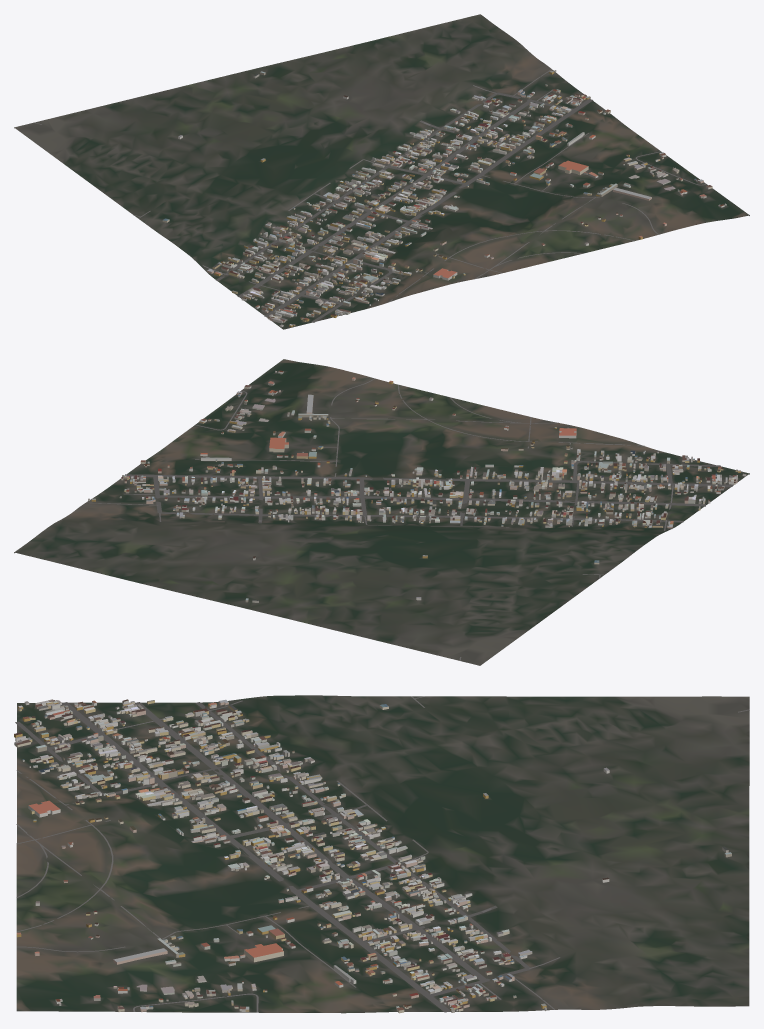
The picture shows the model from 3 angles, top to bottom: view 1: azimuth 30°, elevation 25°; view 2: azimuth 150°, elevation 25°; view 3: azimuth 270°, elevation 25°; orthographic projection. The views are drawn at different scales.
Visible parts, largest first — view 1: ground, buildings, roads; view 2: ground, buildings, roads; view 3: ground, buildings, roads.
Part boxes in pixels (<box>): ground: <box>14,14,749,329</box>; buildings: <box>162,70,726,327</box>; roads: <box>34,69,706,322</box>; ground: <box>14,359,749,665</box>; buildings: <box>88,370,746,602</box>; roads: <box>86,378,732,660</box>; ground: <box>16,695,749,1013</box>; buildings: <box>14,699,731,1013</box>; roads: <box>15,696,749,1012</box>.
Size of the model in its own units: 1408 by 25.15 by 1407.
